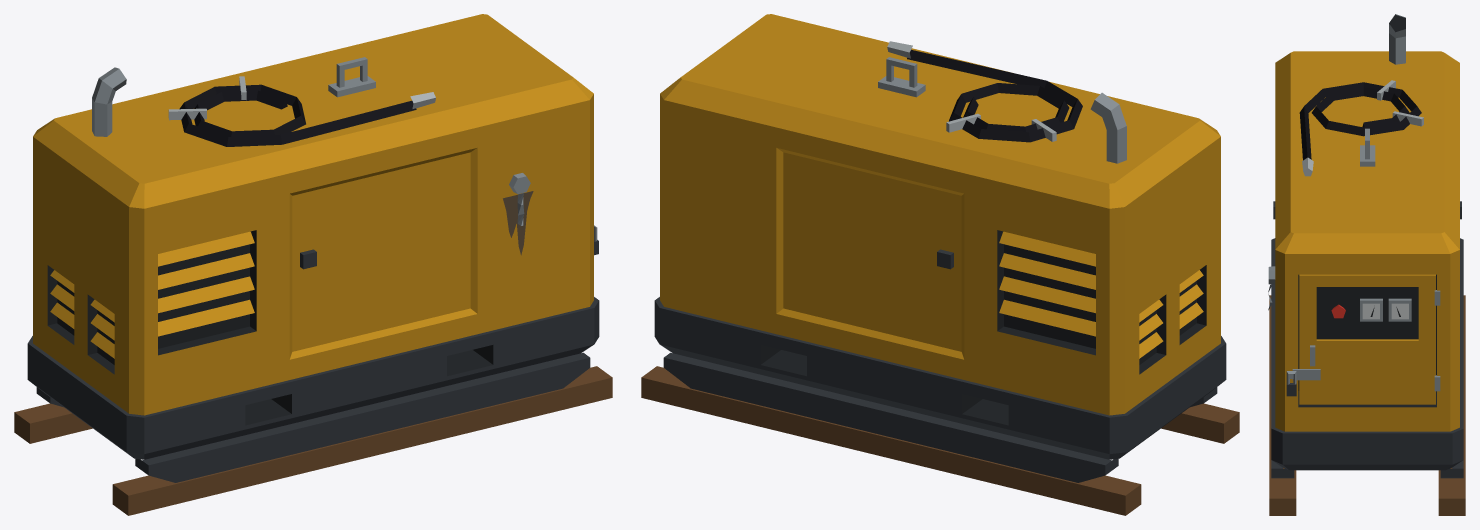
File: lambda.glb
3 renders of one model, left to right at view 1: azimuth 30°, elevation 25°; view 2: azimuth 150°, elevation 25°; view 3: azimuth 270°, elevation 25°, orthographic. The views are drawn at different scales.
Parts seen in each view (by area): view 1: generator-mesh; view 2: generator-mesh; view 3: generator-mesh, control-door-mesh, padlock-mesh.
Boxes of the visible parts, x1,y1,x2,y2 form: generator-mesh: (14, 14, 612, 515); generator-mesh: (641, 14, 1239, 515); generator-mesh: (1268, 14, 1465, 515); control-door-mesh: (1292, 274, 1435, 404); padlock-mesh: (1286, 371, 1296, 396).
Bounding box in the file's own units: 2.5 × 1.86 × 1.03.
